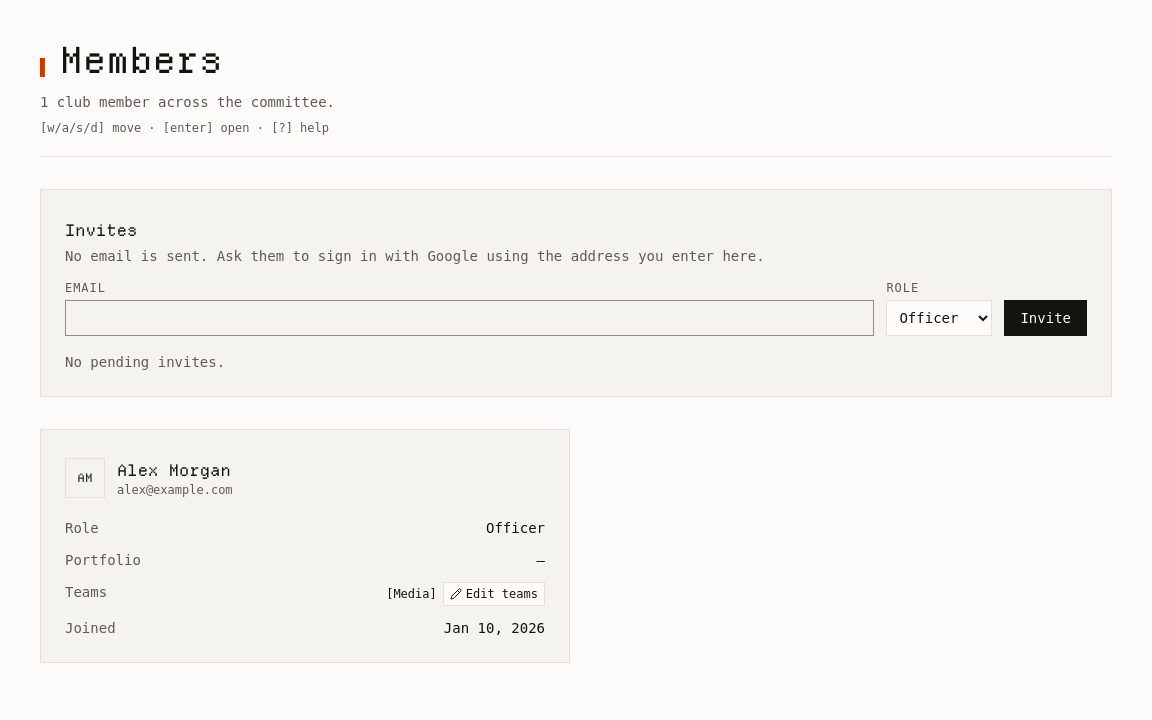
MembersPage › offers a lead only the teams they lead
Click the button with aria-label "Edit teams for Alex Morgan". click: (494, 594)
box: [443,582,545,606]
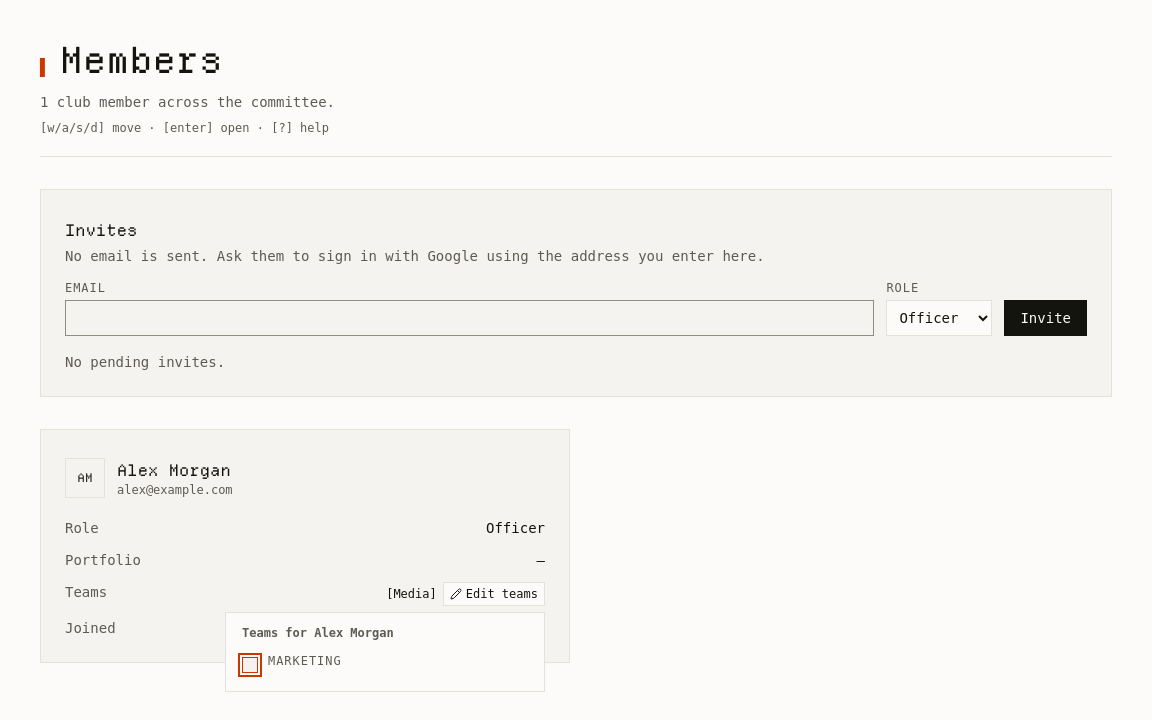
expect the checkbox named "Marketing" is shown: met, box [242,657,258,673]
